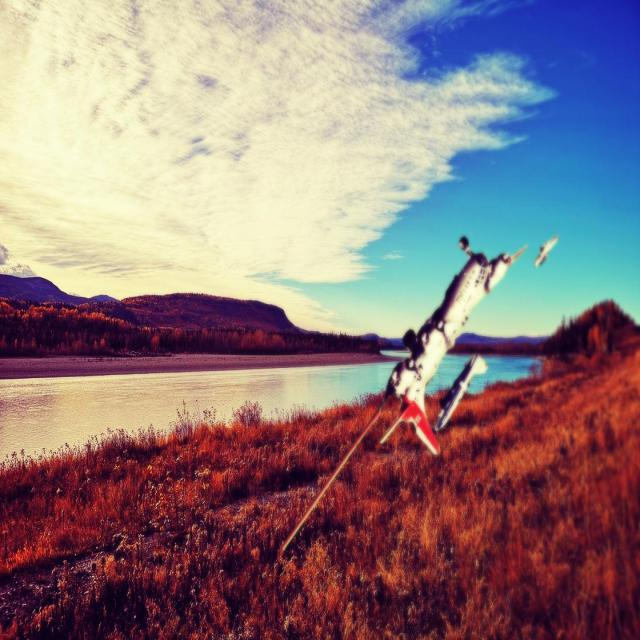airplane: (280, 236, 526, 554)
